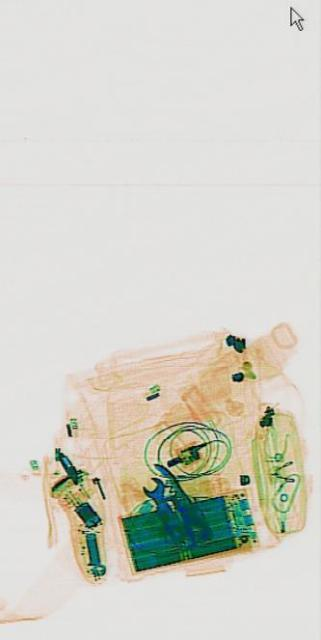Knife: (149, 448, 208, 548)
Wrench: (140, 464, 181, 546)
